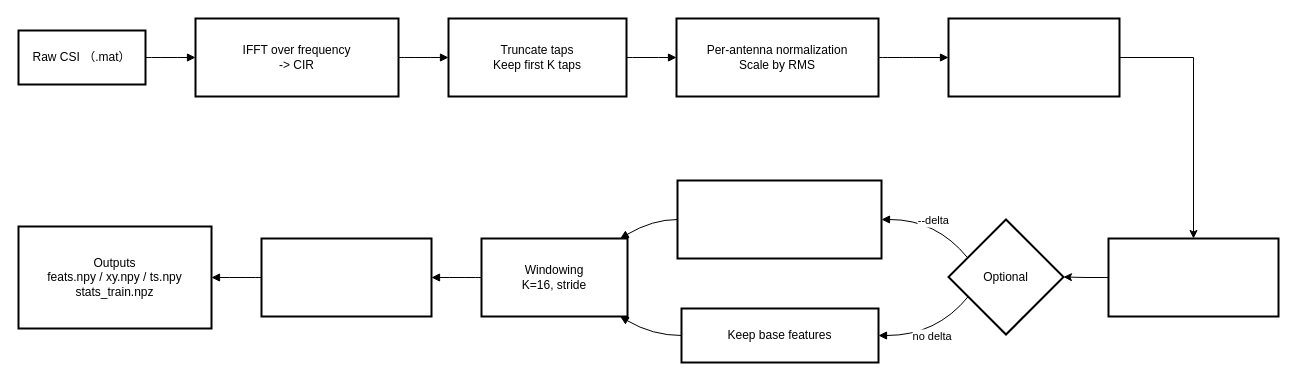
The diagram is 1296 pixels wide and 380 high, and some of its shapes have lost their labels. The shapes that lost their labels are listed below. From the top down, each one's centre as x and y in pixels, then its label:
At pixel 1033 57: "Feature concat Re（CIR） + Im（CIR）".
At pixel 779 219: "Append first-order temporal difference".
At pixel 346 277: "Train-only stats mean/std".
At pixel 1193 277: "Power features log1p（mean（\CIR\^2））".
